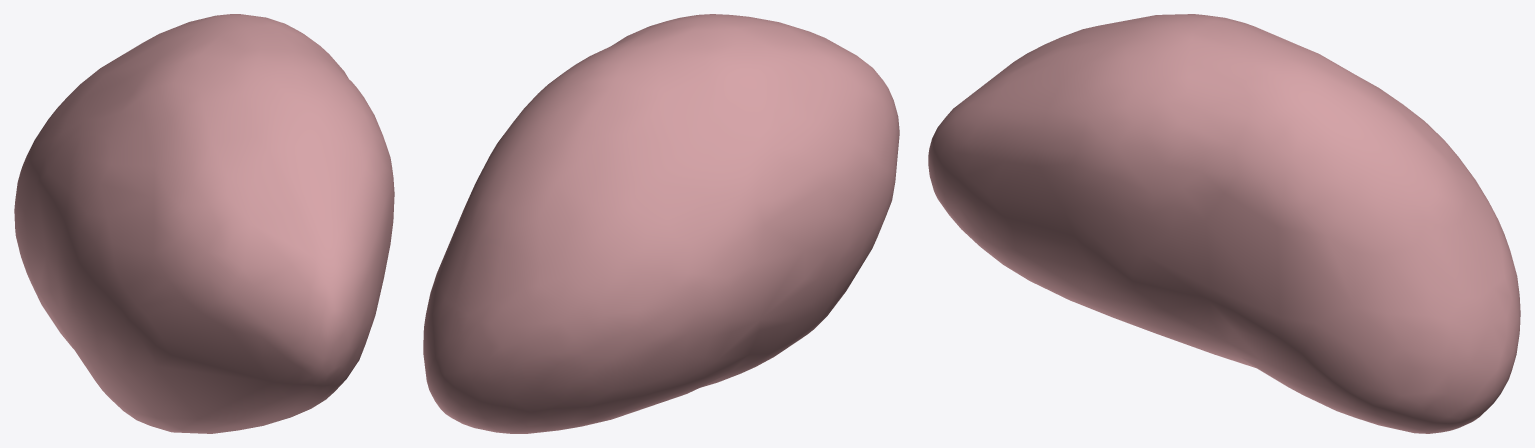
File: fma258716_fj1782.glb
3 renders of one model, left to right at view 1: azimuth 30°, elevation 25°; view 2: azimuth 150°, elevation 25°; view 3: azimuth 270°, elevation 25°, orthographic. The views are drawn at different scales.
Parts seen in each view (by area): view 1: FMA258716_FJ1782; view 2: FMA258716_FJ1782; view 3: FMA258716_FJ1782.
Part boxes in pixels (box(x1,y1,x2,y2)): FMA258716_FJ1782: box(14, 14, 394, 433); FMA258716_FJ1782: box(423, 14, 899, 433); FMA258716_FJ1782: box(928, 14, 1520, 433).
Size of the model in its own units: 0.0235 by 0.0237 by 0.0366.
